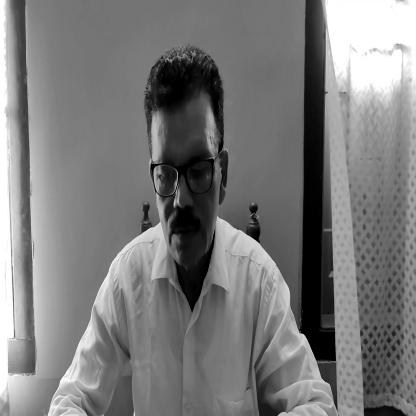Normal: (144, 62, 233, 267)
